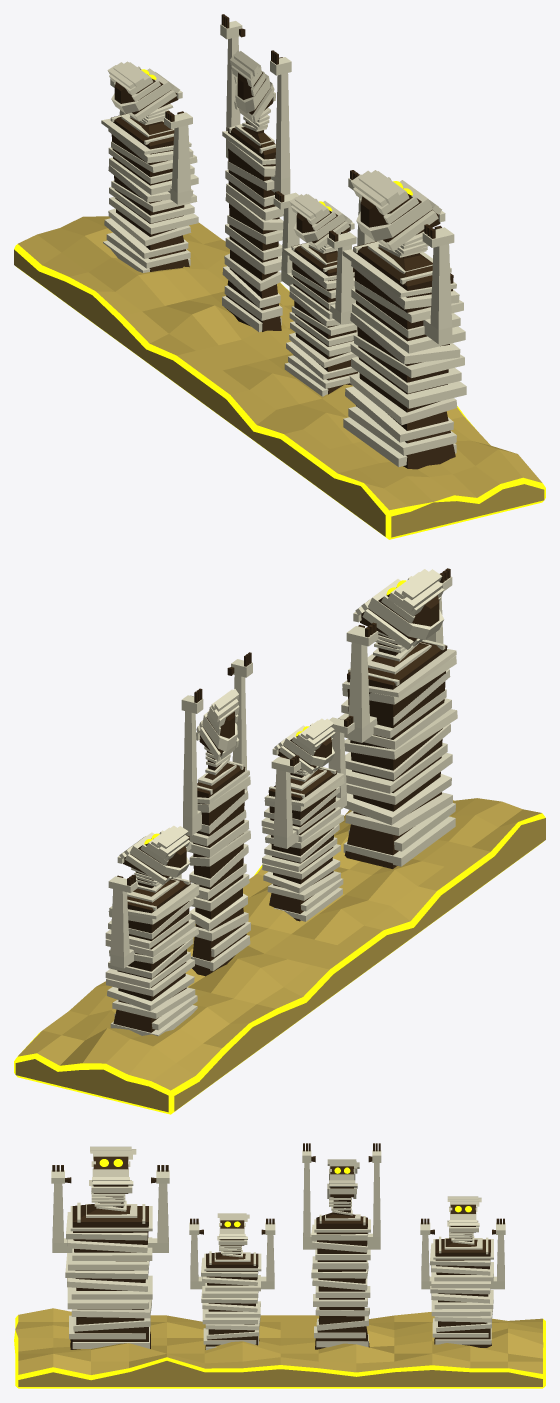
Rendered from EG_[Barrera] Momias.fbx.
3 views of the same model, one above another, from view 1: azimuth 30°, elevation 25°; view 2: azimuth 150°, elevation 25°; view 3: azimuth 270°, elevation 25° (orthographic). The views are drawn at different scales.
Parts seen in each view (by area): view 1: Cube.019; view 2: Cube.019; view 3: Cube.019.
Boxes of the visible parts, bbox=[...] form: Cube.019: bbox=[14, 14, 545, 539]; Cube.019: bbox=[14, 568, 545, 1114]; Cube.019: bbox=[14, 1143, 545, 1388].
Bounding box in the file's own units: 95.74 × 180 × 389.
